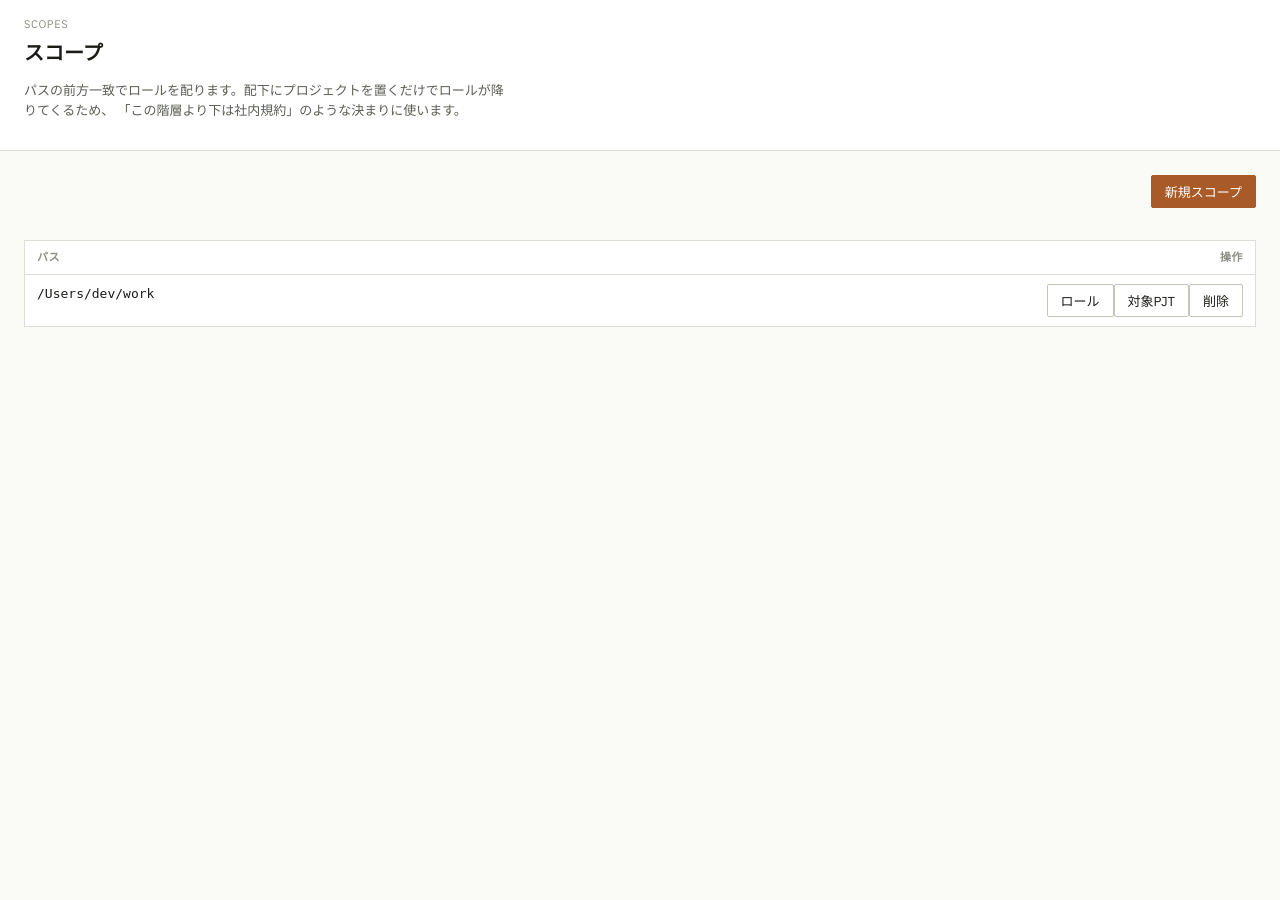
Test: Scopes › warns that projects under the path lose the role before deleting
Check: the text "/Users/dev/work" is shown, box [37, 286, 154, 301]
Click the button "削除". click: click(1216, 301)
box: [1189, 284, 1243, 317]
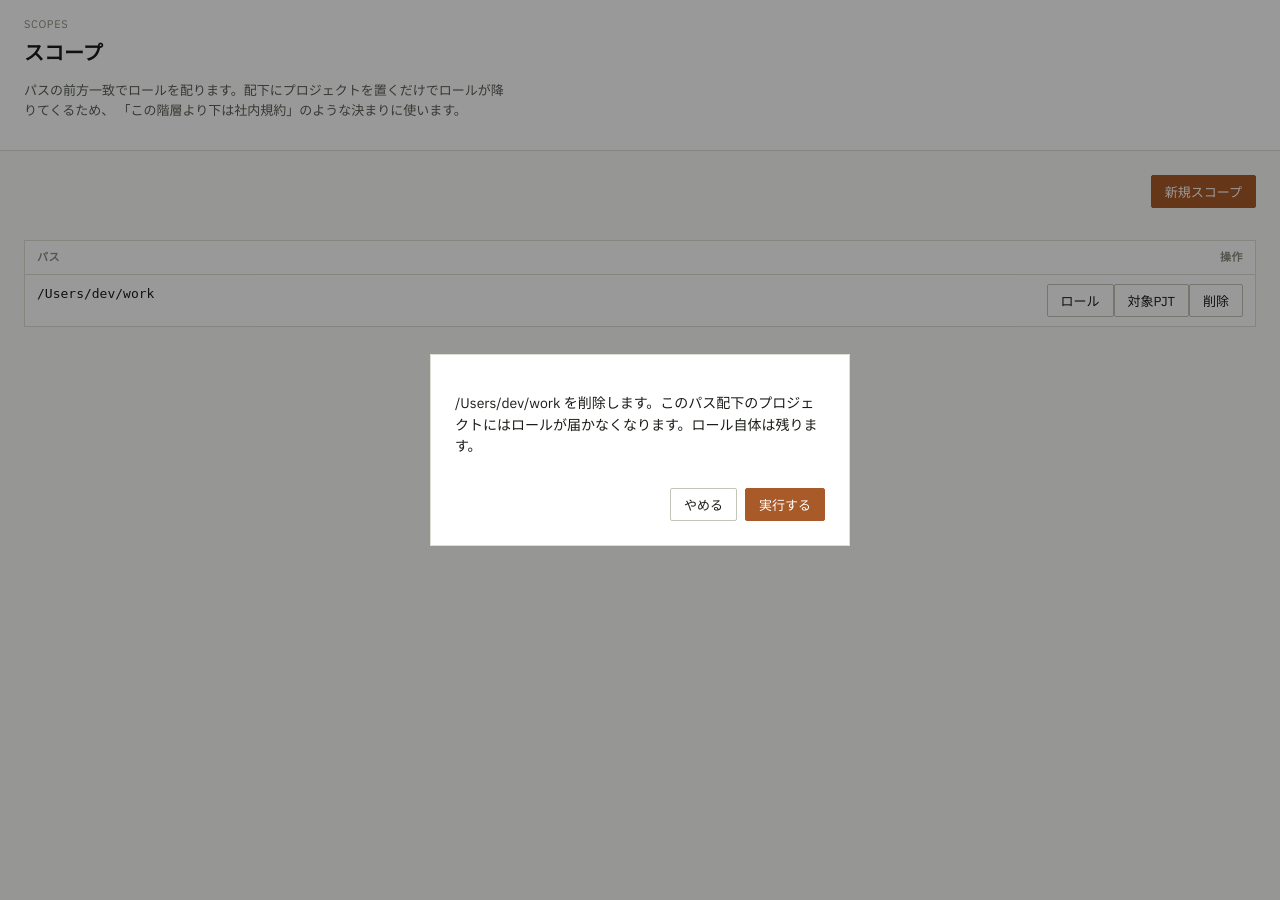
Check: the dialog is shown, box [430, 354, 850, 546]
Check: the text "ロールが届かなくなります" is shown, box [455, 394, 818, 455]
